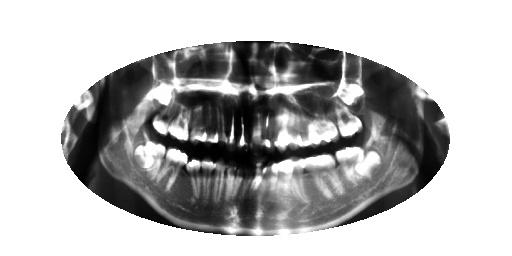Cavity: (335, 104, 364, 139), (243, 161, 256, 204), (227, 164, 236, 214), (233, 166, 242, 211)
